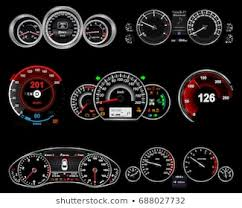Digital_Meter: (105, 106, 137, 117)
